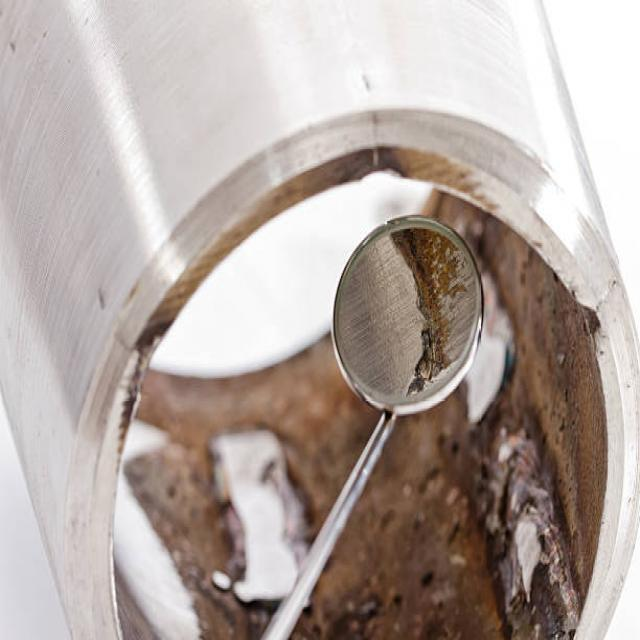Bad Weld: (476, 422, 576, 638), (402, 254, 442, 395)
